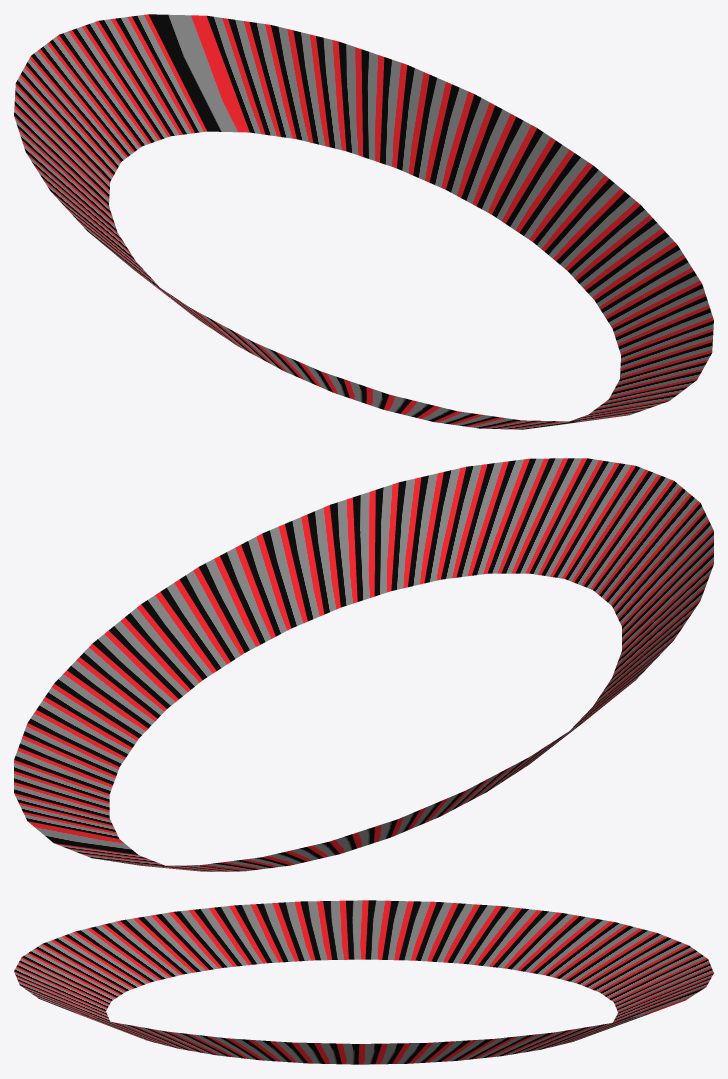
File: wall.fbx
3 renders of one model, top to bottom at view 1: azimuth 30°, elevation 25°; view 2: azimuth 150°, elevation 25°; view 3: azimuth 270°, elevation 25°, orthographic. The views are drawn at different scales.
Visible parts, largest first — view 1: Cylinder; view 2: Cylinder; view 3: Cylinder.
Part boxes in pixels (x1,y1,x2,y2): Cylinder: (14, 14, 713, 429); Cylinder: (14, 458, 713, 871); Cylinder: (14, 900, 713, 1064).
Bounding box in the file's own units: 1.83 × 0.2384 × 3.78.
Materials: 1 (1 with a texture image).
